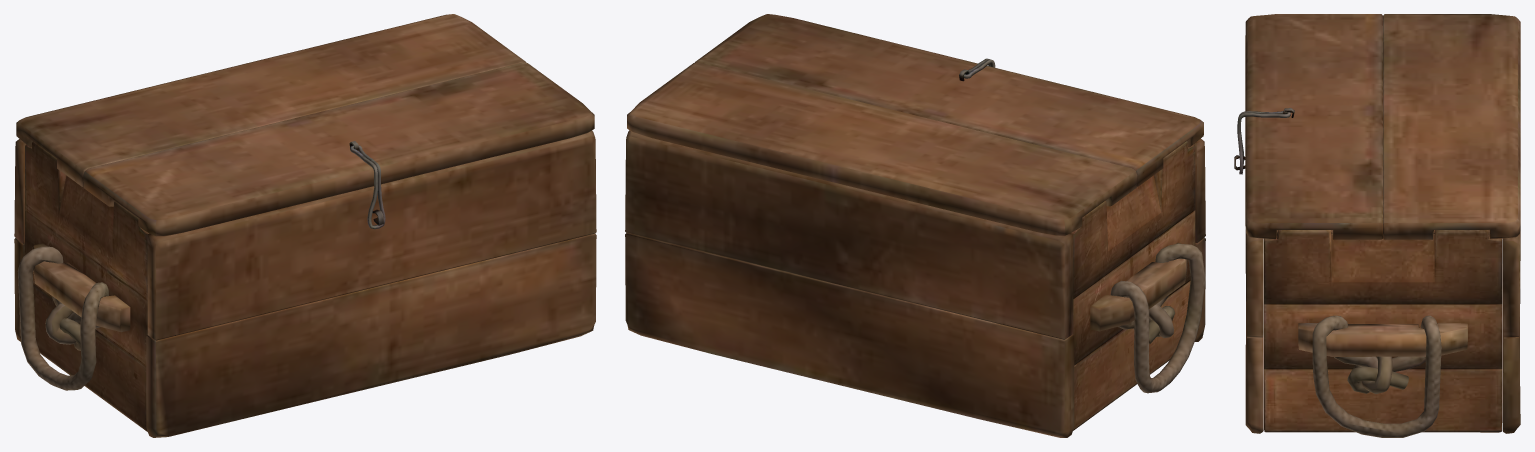
File: wooden_crate_01.glb
3 views of the same model, side by side, from view 1: azimuth 30°, elevation 25°; view 2: azimuth 150°, elevation 25°; view 3: azimuth 270°, elevation 25° (orthographic). The views are drawn at different scales.
Visible parts, largest first — view 1: wooden_crate_01, wooden_crate_01_lid, wooden_crate_01_latch; view 2: wooden_crate_01, wooden_crate_01_lid; view 3: wooden_crate_01_lid, wooden_crate_01, wooden_crate_01_latch.
Part boxes in pixels (x1,y1,x2,y2): wooden_crate_01: (14, 131, 596, 437); wooden_crate_01_lid: (16, 14, 594, 236); wooden_crate_01_latch: (350, 145, 385, 229); wooden_crate_01: (625, 130, 1205, 437); wooden_crate_01_lid: (627, 14, 1203, 236); wooden_crate_01_lid: (1245, 14, 1520, 239); wooden_crate_01: (1234, 155, 1520, 437); wooden_crate_01_latch: (1237, 111, 1290, 174).
Bounding box in the file's own units: 0.8245 × 0.3484 × 0.4072.
Materials: 1 (1 with a texture image).
